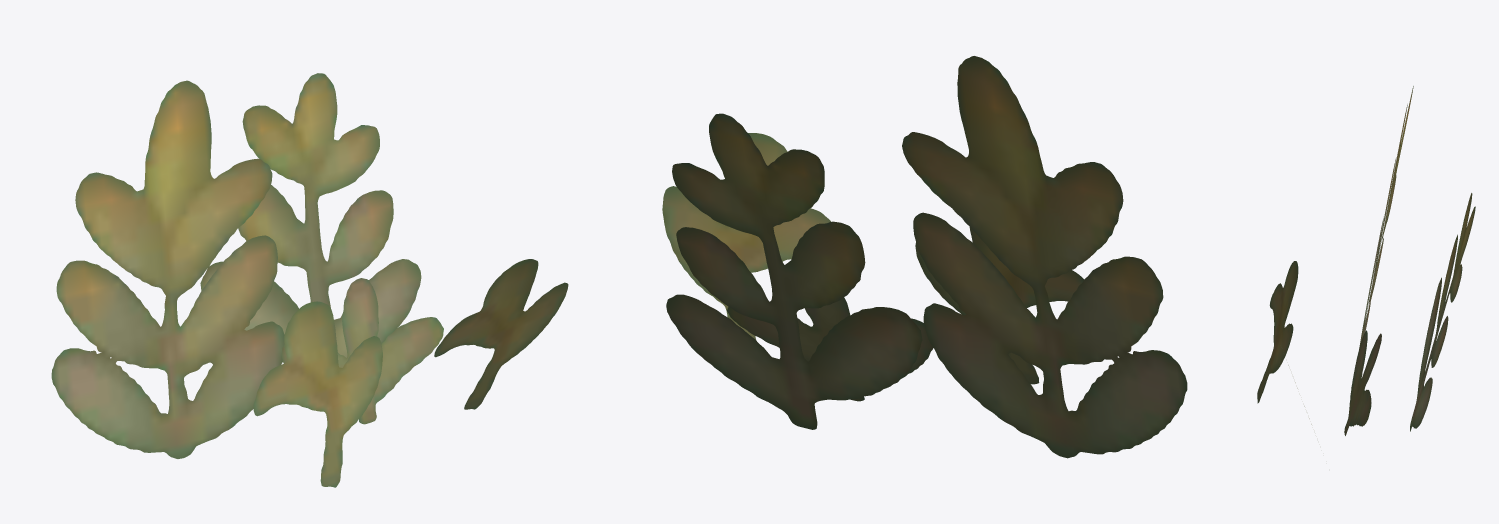
Rendered from pref_sm_beach_techclover05_lv2.fbx.
3 views of the same model, side by side, from view 1: azimuth 30°, elevation 25°; view 2: azimuth 150°, elevation 25°; view 3: azimuth 270°, elevation 25° (orthographic). The views are drawn at different scales.
Parts seen in each view (by area): view 1: pref_sm_beach_techclover05_lv2; view 2: pref_sm_beach_techclover05_lv2; view 3: pref_sm_beach_techclover05_lv2.
Boxes of the visible parts, x1,y1,x2,y2 form: pref_sm_beach_techclover05_lv2: (51, 73, 568, 487); pref_sm_beach_techclover05_lv2: (662, 56, 1187, 458); pref_sm_beach_techclover05_lv2: (1257, 86, 1475, 435).
Size of the model in its own units: 1.07 by 0.7345 by 0.5229.
